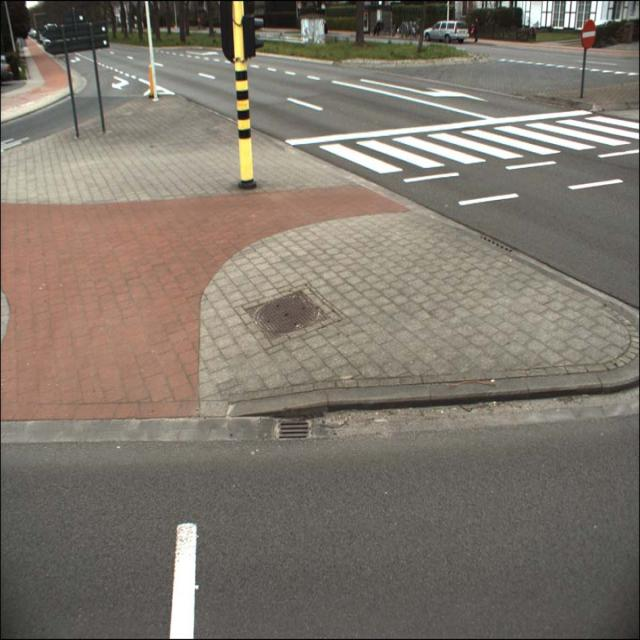girisyok: (582, 19, 596, 49)
